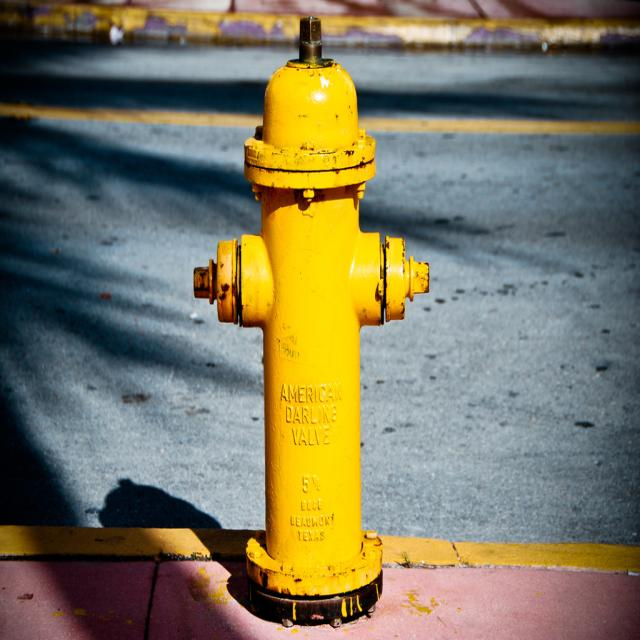fire_hydrant: (195, 16, 428, 624)
